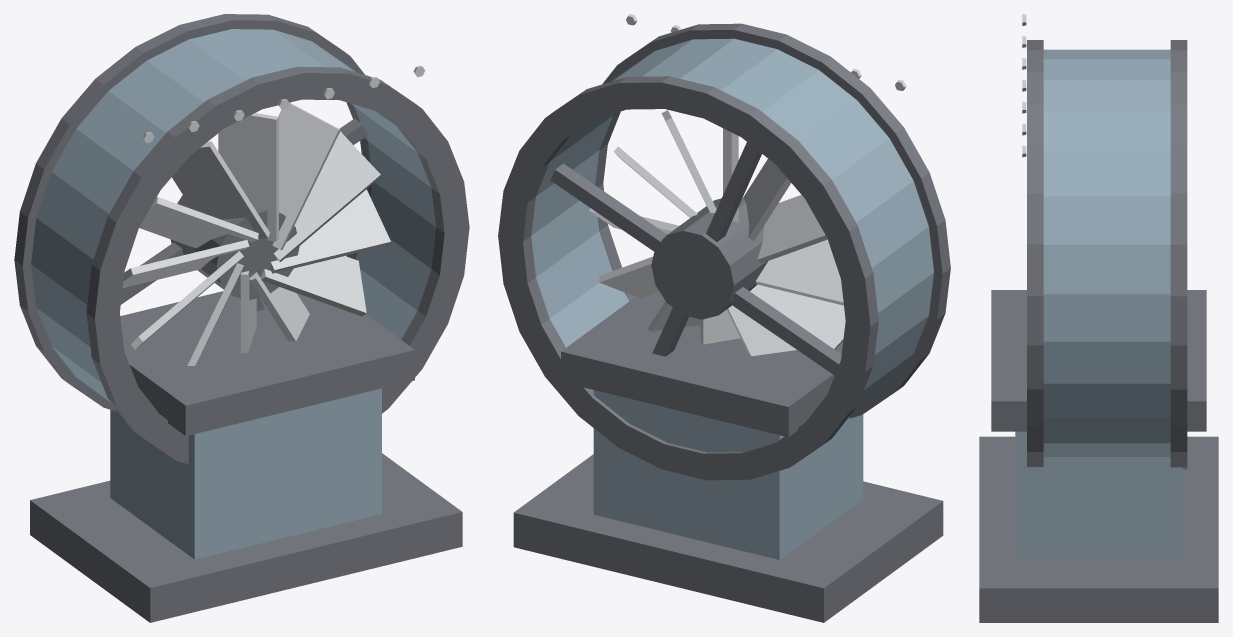
Rendered from animated-mechanisms-kit-turbine-rotor-a40da0a0__24624.glb.
3 views of the same model, side by side, from view 1: azimuth 30°, elevation 25°; view 2: azimuth 150°, elevation 25°; view 3: azimuth 270°, elevation 25° (orthographic).
Parts seen in each view (by area): view 1: turbine-rotor, rotor/steel, rotor/iron; view 2: turbine-rotor, rotor/steel, rotor/iron; view 3: turbine-rotor.
Boxes of the visible parts, x1,y1,x2,y2 form: turbine-rotor: (14, 14, 469, 622); rotor/steel: (122, 102, 390, 365); rotor/iron: (170, 195, 299, 299); turbine-rotor: (498, 14, 950, 622); rotor/steel: (589, 110, 845, 356); rotor/iron: (651, 198, 767, 319); turbine-rotor: (979, 14, 1218, 622).
Bounding box in the file's own units: 1.8 × 2.24 × 1.
